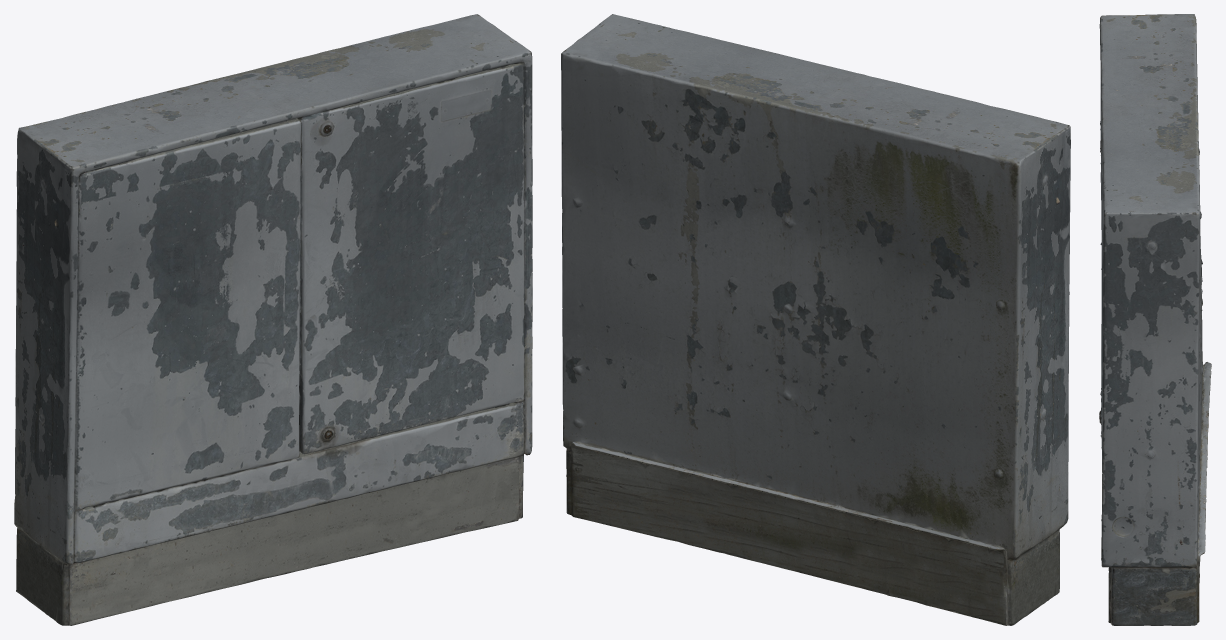
The model's file is electric_box_34.glb.
3 renders of one model, left to right at view 1: azimuth 30°, elevation 25°; view 2: azimuth 150°, elevation 25°; view 3: azimuth 270°, elevation 25°, orthographic. The views are drawn at different scales.
Visible parts, largest first — view 1: Object_2; view 2: Object_2; view 3: Object_2.
Boxes of the visible parts, x1,y1,x2,y2 form: Object_2: [14, 14, 532, 625]; Object_2: [561, 14, 1070, 625]; Object_2: [1099, 14, 1211, 625].
Size of the model in its own units: 1.08 by 1.04 by 0.2551.
1 material, 1 textured.
